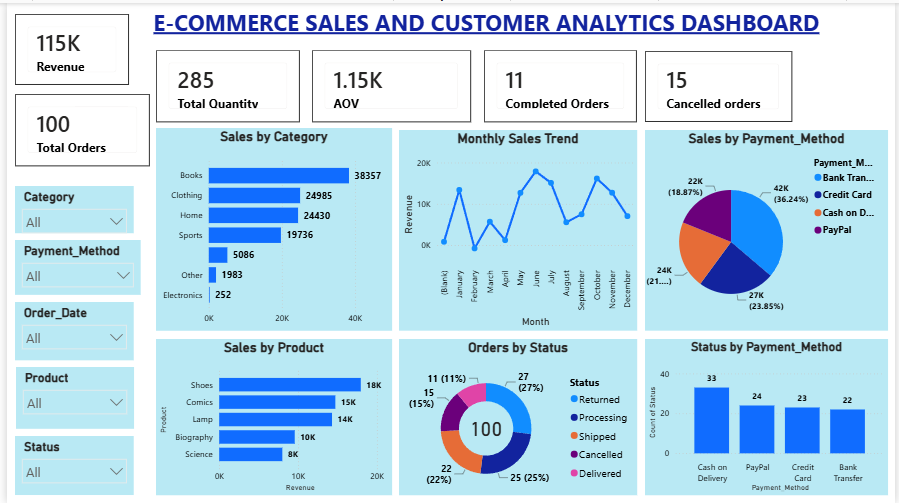

Layout of this report page (visuals, bound fields, positions):
{"tool":"powerbi","page":{"name":"Page 1","canvas":[1280,720],"ordinal":0},"visuals":[{"type":"cardVisual","fields":{"Data":["messy_ecommerce_sales_data.Total Orders"]},"box":[352.8,102.2,155.5,103.7],"z":0},{"type":"cardVisual","fields":{"Data":["messy_ecommerce_sales_data.Total Quantity"]},"box":[518.4,102.2,164.2,103.7],"z":1000},{"type":"cardVisual","fields":{"Data":["messy_ecommerce_sales_data.Total Sales"]},"box":[157,0,164.2,102.2],"z":2000},{"type":"cardVisual","fields":{"Data":["messy_ecommerce_sales_data.Average Order value"]},"box":[701.3,102.2,149.8,103.7],"z":3000},{"type":"cardVisual","fields":{"Data":["messy_ecommerce_sales_data.Cancelled orders"]},"box":[1081.4,0,187.2,102.2],"z":4000},{"type":"cardVisual","fields":{"Data":["messy_ecommerce_sales_data.Completed Orders"]},"box":[861.1,102.2,195.8,103.7],"z":5000},{"type":"clusteredBarChart","title":"Sales by  Category","fields":{"Category":["messy_ecommerce_sales_data. Category"],"Y":["messy_ecommerce_sales_data.Total Sales"]},"box":[214.6,221.8,339.8,265],"z":6000},{"type":"lineChart","title":"Monthly Sales Trend","fields":{"Y":["messy_ecommerce_sales_data.Total Sales"],"Category":["messy_ecommerce_sales_data.Order_Date.Variation.Date Hierarchy.Month"]},"box":[564.5,221.8,342.7,265],"z":7000},{"type":"pieChart","title":"Sales by Payment_Method","fields":{"Category":["messy_ecommerce_sales_data.Payment_Method"],"Y":["messy_ecommerce_sales_data.Revenue"]},"box":[918.7,221.8,349.9,265],"z":8000},{"type":"clusteredBarChart","title":"Sales by Product","fields":{"Y":["messy_ecommerce_sales_data.Total Sales"],"Category":["messy_ecommerce_sales_data.Product"]},"box":[214.6,496.8,339.8,211.7],"z":9000},{"type":"donutChart","title":"Orders by Status","fields":{"Category":["messy_ecommerce_sales_data.Status"],"Y":["messy_ecommerce_sales_data.Total Orders"]},"box":[564.5,496.8,342.7,211.7],"z":10000},{"type":"slicer","fields":{"Values":["messy_ecommerce_sales_data.Order_Date"]},"box":[11.5,430.6,171.4,83.5],"z":11000},{"type":"slicer","fields":{"Values":["messy_ecommerce_sales_data. Category"]},"box":[11.5,263.5,171.4,67.7],"z":12000},{"type":"slicer","fields":{"Values":["messy_ecommerce_sales_data.Product"]},"box":[13,524.2,169.9,89.3],"z":13000},{"type":"slicer","fields":{"Values":["messy_ecommerce_sales_data.Payment_Method"]},"box":[11.5,341.3,171.4,79.2],"z":14000},{"type":"slicer","fields":{"Values":["messy_ecommerce_sales_data.Status"]},"box":[11.5,623.5,171.4,85],"z":15000},{"type":"columnChart","title":" Status by Payment_Method","fields":{"Category":["messy_ecommerce_sales_data.Payment_Method"],"Y":["CountNonNull(messy_ecommerce_sales_data.Status)"]},"box":[918.7,496.8,349.9,211.7],"z":17000}]}

Visuals, with their boxes in screenshot pixels (x1, y1, x2, y2), scaled from the page's 1280x720 canvas onto the 899x503 screenshot:
cardVisual - messy_ecommerce_sales_data.Total Orders: (248, 71, 357, 144)
cardVisual - messy_ecommerce_sales_data.Total Quantity: (364, 71, 479, 144)
cardVisual - messy_ecommerce_sales_data.Total Sales: (110, 0, 226, 71)
cardVisual - messy_ecommerce_sales_data.Average Order value: (493, 71, 598, 144)
cardVisual - messy_ecommerce_sales_data.Cancelled orders: (760, 0, 891, 71)
cardVisual - messy_ecommerce_sales_data.Completed Orders: (605, 71, 742, 144)
"Sales by  Category" clusteredBarChart: (151, 155, 389, 340)
"Monthly Sales Trend" lineChart: (396, 155, 637, 340)
"Sales by Payment_Method" pieChart: (645, 155, 891, 340)
"Sales by Product" clusteredBarChart: (151, 347, 389, 495)
"Orders by Status" donutChart: (396, 347, 637, 495)
slicer - messy_ecommerce_sales_data.Order_Date: (8, 301, 128, 359)
slicer - messy_ecommerce_sales_data. Category: (8, 184, 128, 231)
slicer - messy_ecommerce_sales_data.Product: (9, 366, 128, 429)
slicer - messy_ecommerce_sales_data.Payment_Method: (8, 238, 128, 294)
slicer - messy_ecommerce_sales_data.Status: (8, 436, 128, 495)
" Status by Payment_Method" columnChart: (645, 347, 891, 495)
